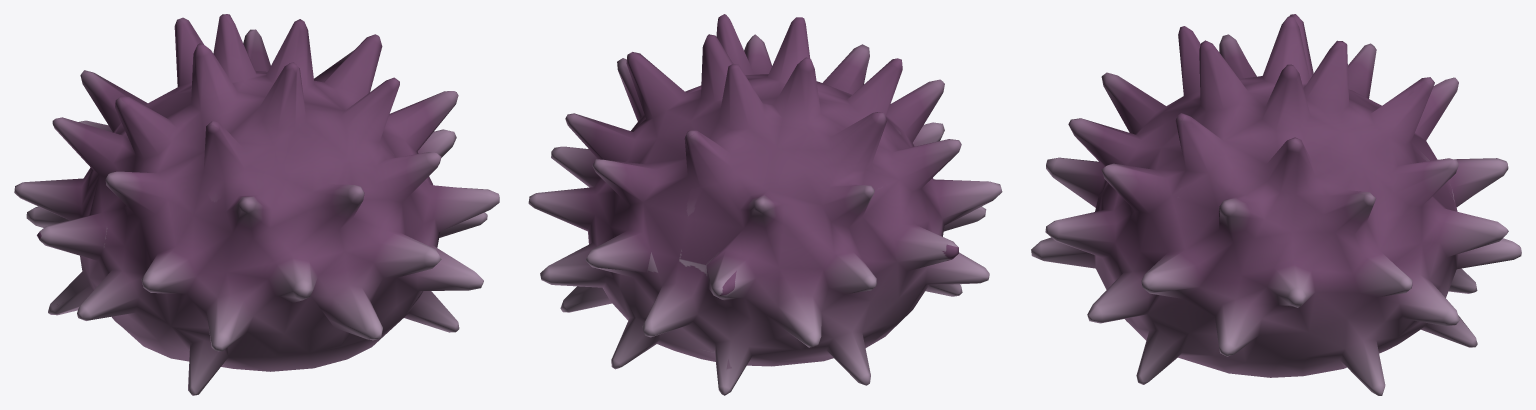
The model's file is sea_urchin.fbx.
The picture shows the model from 3 angles, left to right: view 1: azimuth 30°, elevation 25°; view 2: azimuth 150°, elevation 25°; view 3: azimuth 270°, elevation 25°; orthographic projection. The views are drawn at different scales.
Parts seen in each view (by area): view 1: sea_urchin; view 2: sea_urchin; view 3: sea_urchin.
Part boxes in pixels (box(x1,y1,x2,y2)): sea_urchin: box(14, 14, 499, 395); sea_urchin: box(528, 14, 1002, 395); sea_urchin: box(1031, 14, 1521, 395).
Bounding box in the file's own units: 0.1381 × 0.088 × 0.14.
1 material, 1 textured.
